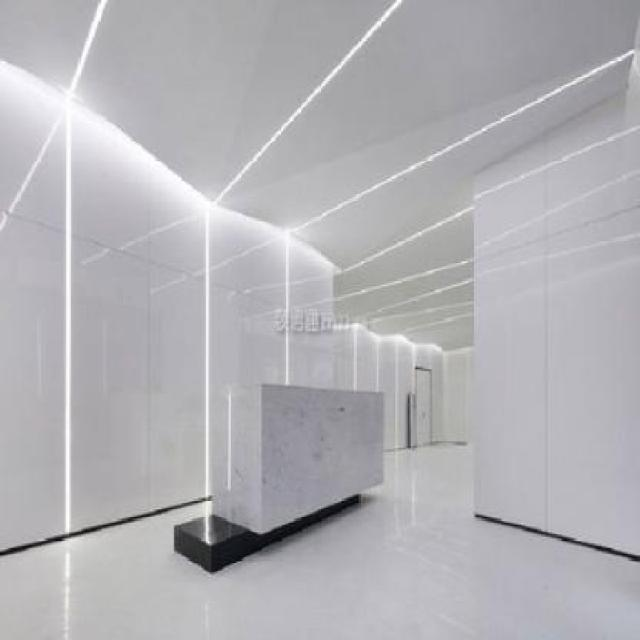frontdesk: (157, 357, 393, 574)
